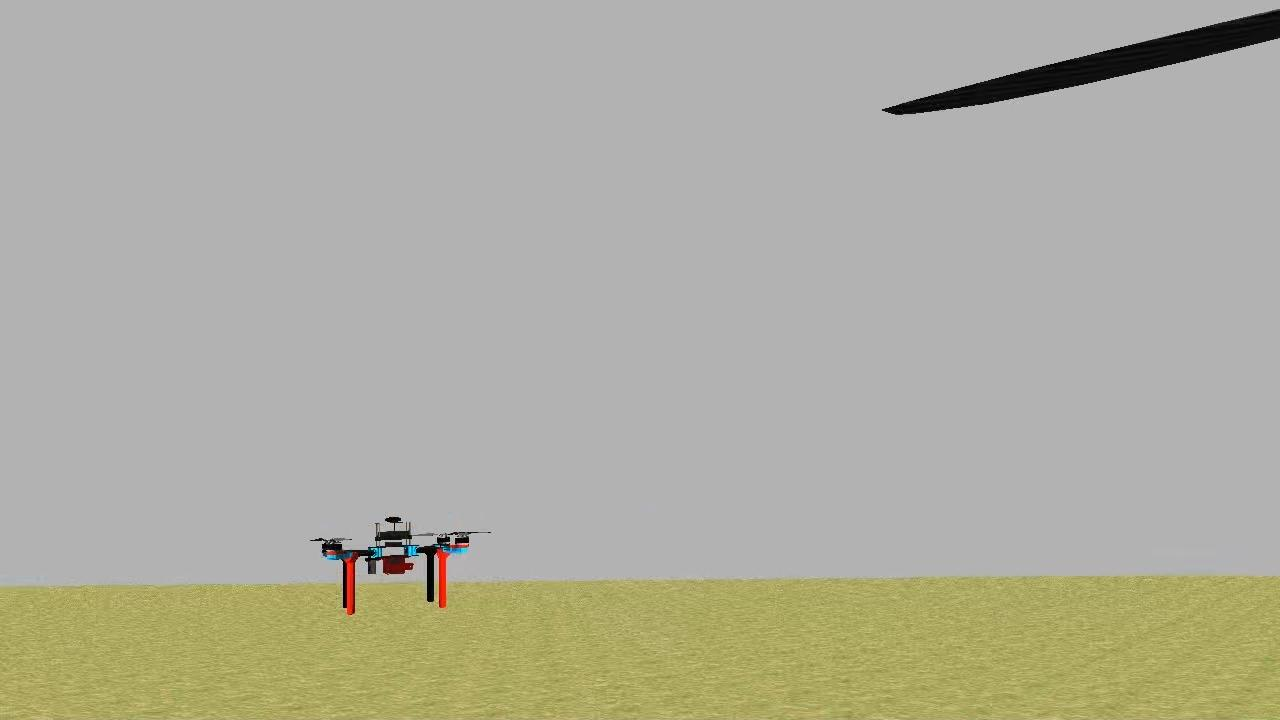UAV: (318, 506, 484, 620)
